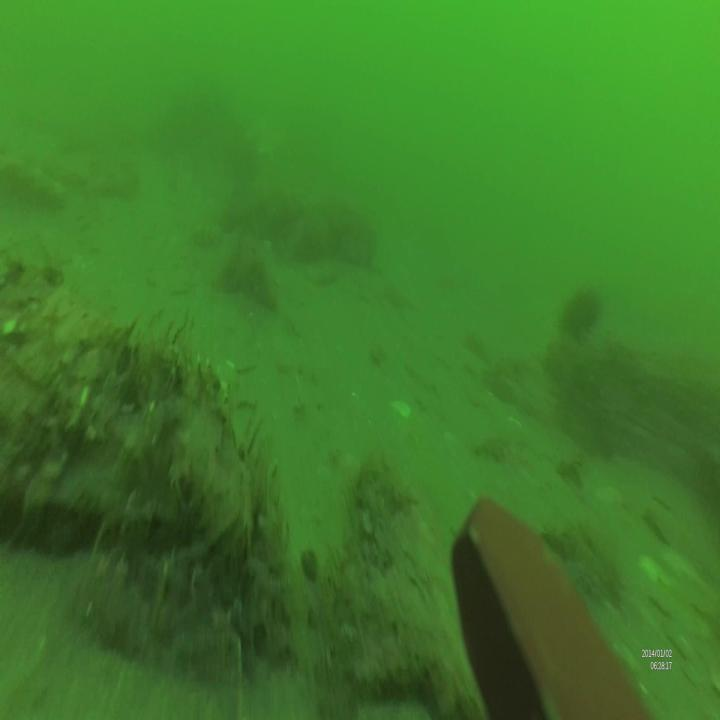echinus: (558, 281, 608, 348)
